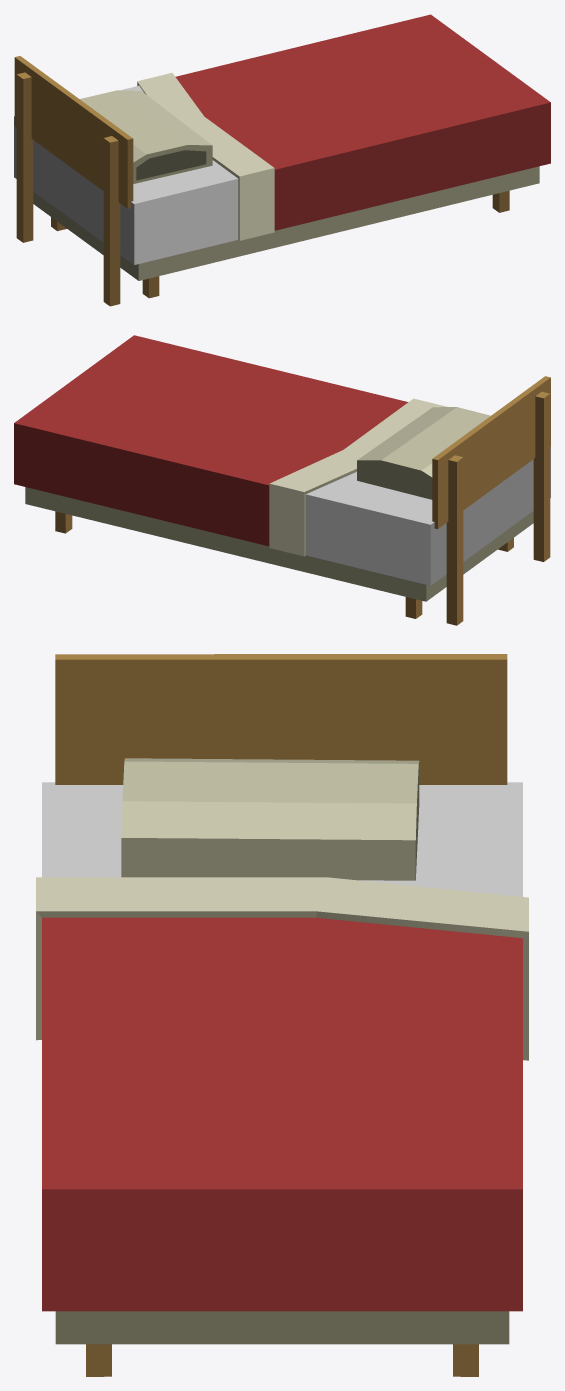
File: bed_red.obj
3 renders of one model, top to bottom at view 1: azimuth 30°, elevation 25°; view 2: azimuth 150°, elevation 25°; view 3: azimuth 270°, elevation 25°, orthographic. The views are drawn at different scales.
Parts seen in each view (by area): view 1: Prop_SingleBed_Red_Malla.162; view 2: Prop_SingleBed_Red_Malla.162; view 3: Prop_SingleBed_Red_Malla.162.
Boxes of the visible parts, bbox=[...] form: Prop_SingleBed_Red_Malla.162: bbox=[14, 14, 550, 306]; Prop_SingleBed_Red_Malla.162: bbox=[14, 335, 550, 625]; Prop_SingleBed_Red_Malla.162: bbox=[36, 654, 528, 1376].
Bounding box in the file's own units: 218 × 83.11 × 108.
